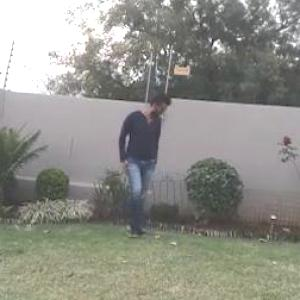follow: (115, 87, 164, 243)
